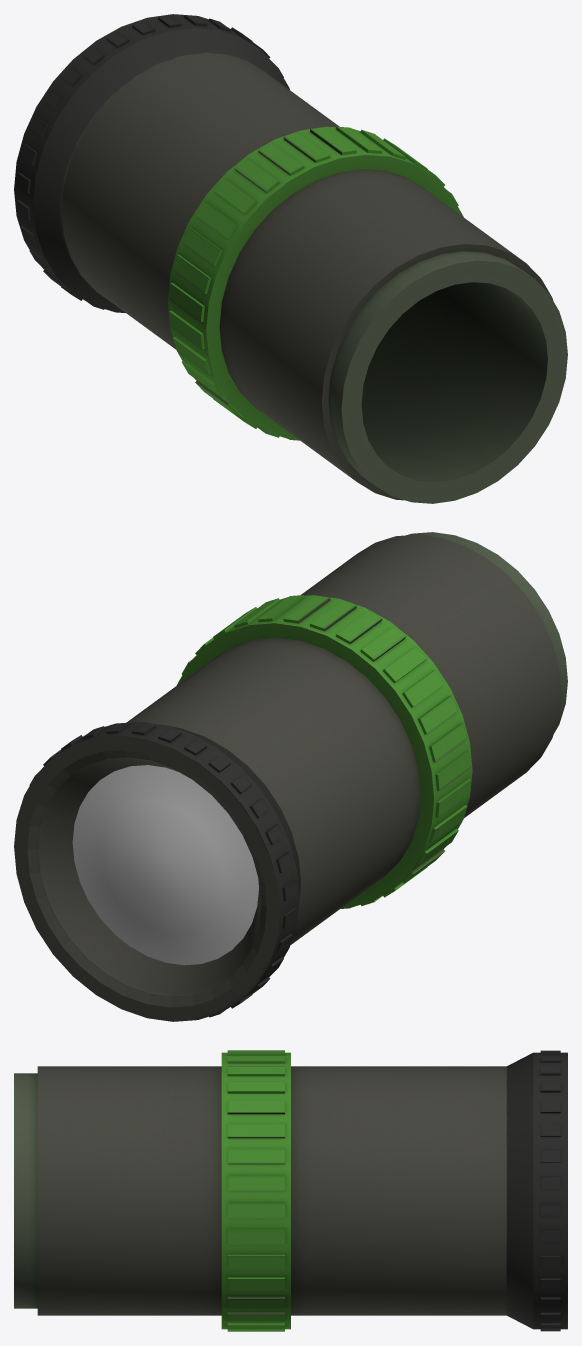
Rendered from magnifyingglass_flo_v-3.gltf.
The picture shows the model from 3 angles, top to bottom: view 1: azimuth 30°, elevation 25°; view 2: azimuth 150°, elevation 25°; view 3: azimuth 270°, elevation 25°; orthographic projection. The views are drawn at different scales.
Visible parts, largest first — view 1: magnifying_glass; view 2: magnifying_glass, GLASS_lens; view 3: magnifying_glass.
Part boxes in pixels (x1,y1,x2,y2): magnifying_glass: (14, 14, 567, 503); magnifying_glass: (14, 532, 567, 1021); GLASS_lens: (72, 765, 258, 965); magnifying_glass: (14, 1050, 567, 1331).
Size of the model in its own units: 4.06 by 4.06 by 8.
Materials: 2 (1 with a texture image).
